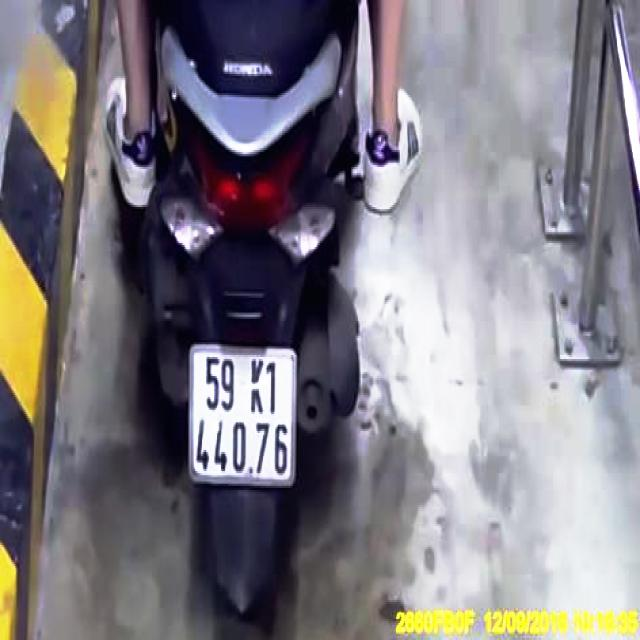license_plate: (189, 346, 297, 486)
